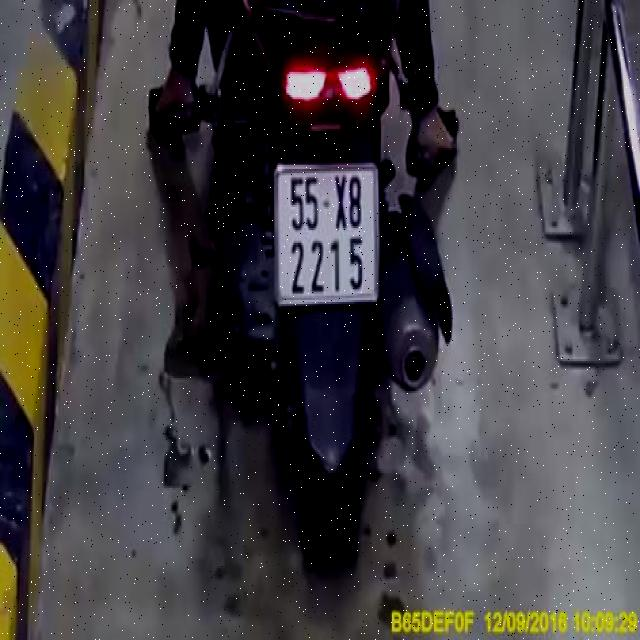1: (328, 233, 344, 294)
2: (288, 238, 309, 297), (310, 236, 328, 294)
5: (349, 234, 368, 291), (304, 173, 322, 229), (288, 178, 304, 234)
6: (267, 149, 391, 321)
8: (348, 174, 364, 230)
X: (332, 172, 350, 230)
